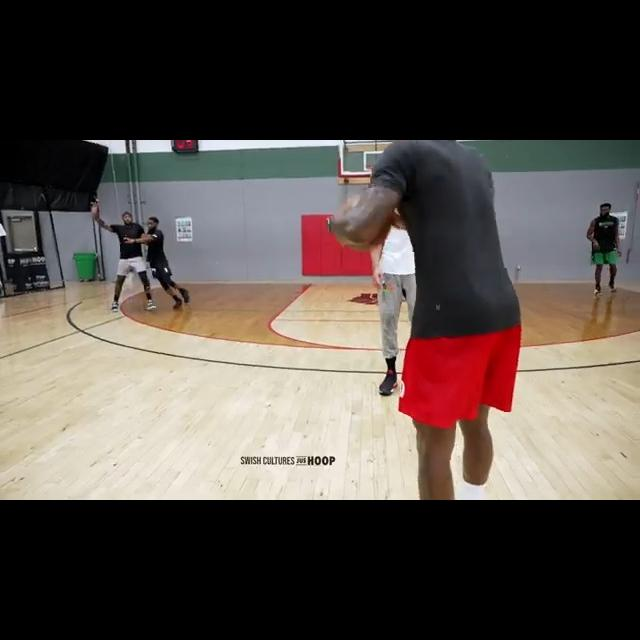basketball: (335, 196, 392, 247)
person: (363, 140, 523, 500), (373, 163, 446, 397), (94, 197, 156, 318), (134, 216, 193, 312), (585, 202, 624, 297)
